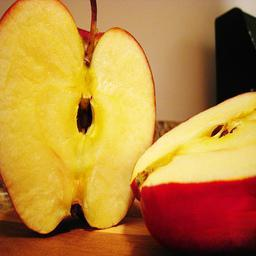apple: (1, 1, 156, 236), (136, 91, 256, 254)
